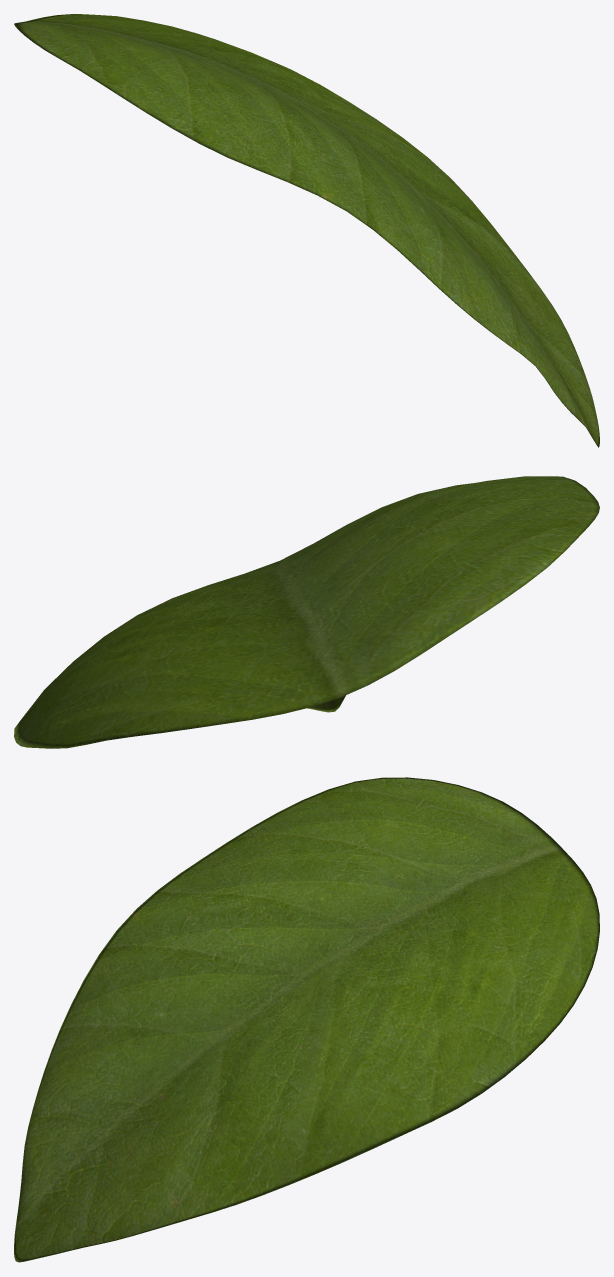
Rendered from leaf.fbx.
3 renders of one model, top to bottom at view 1: azimuth 30°, elevation 25°; view 2: azimuth 150°, elevation 25°; view 3: azimuth 270°, elevation 25°, orthographic. The views are drawn at different scales.
Parts seen in each view (by area): view 1: cgaxis_models_26_06_06_1; view 2: cgaxis_models_26_06_06_1; view 3: cgaxis_models_26_06_06_1.
Boxes of the visible parts, x1,y1,x2,y2 form: cgaxis_models_26_06_06_1: (14, 14, 599, 447); cgaxis_models_26_06_06_1: (14, 476, 599, 748); cgaxis_models_26_06_06_1: (14, 777, 599, 1262).
Bounding box in the file's own units: 1.46 × 1.19 × 1.97.
Materials: 1 (1 with a texture image).
